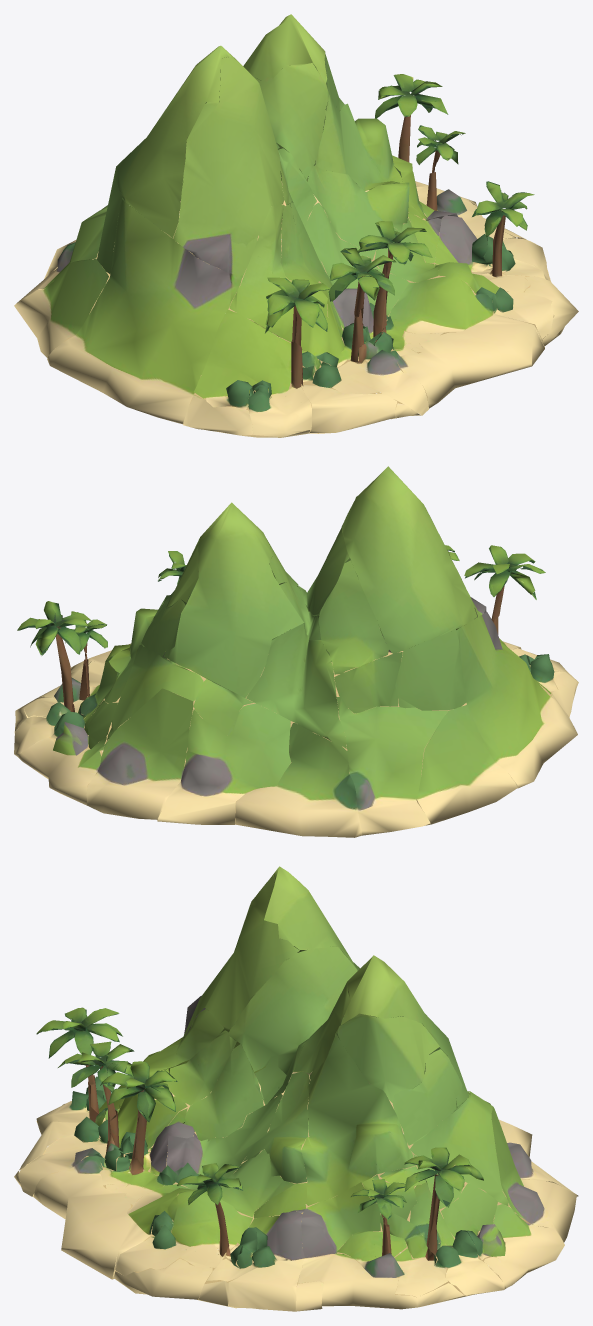
Rendered from island.fbx.
3 views of the same model, one above another, from view 1: azimuth 30°, elevation 25°; view 2: azimuth 150°, elevation 25°; view 3: azimuth 270°, elevation 25° (orthographic). The views are drawn at different scales.
Visible parts, largest first — view 1: ISLAND; view 2: ISLAND; view 3: ISLAND.
Boxes of the visible parts, box(x1,y1,x2,y2) form: ISLAND: box(14, 14, 578, 437); ISLAND: box(14, 466, 578, 837); ISLAND: box(14, 866, 578, 1311).
Size of the model in its own units: 0.9978 by 0.5935 by 1.
Materials: 1 (1 with a texture image).
